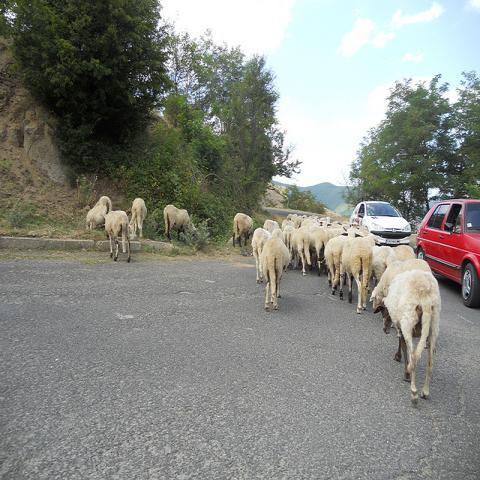car: (415, 197, 479, 309), (346, 200, 412, 238)
